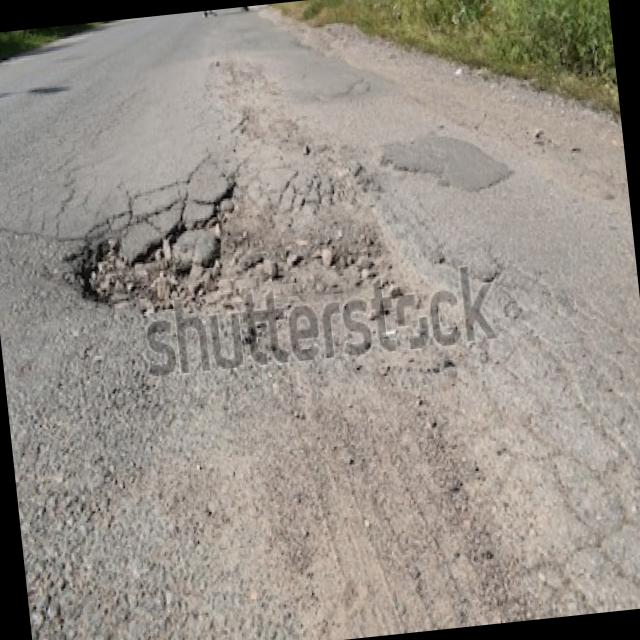Potholes: (14, 140, 448, 398)
